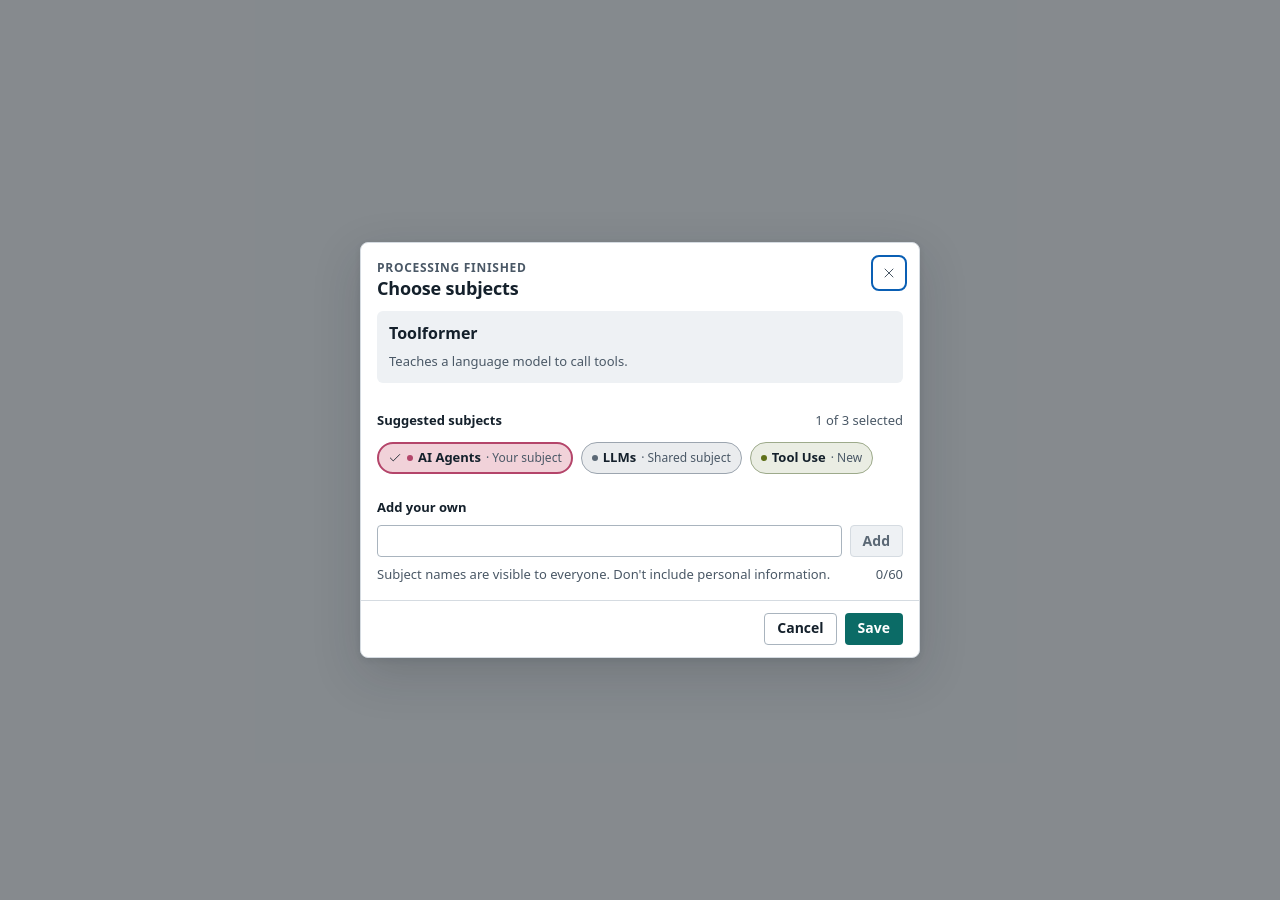
Test case: SubjectPicker › keeps the picker open with the selection when saving fails
Click the button "LLMs · Shared subject" at {"x": 661, "y": 458}, box [581,442,742,474]
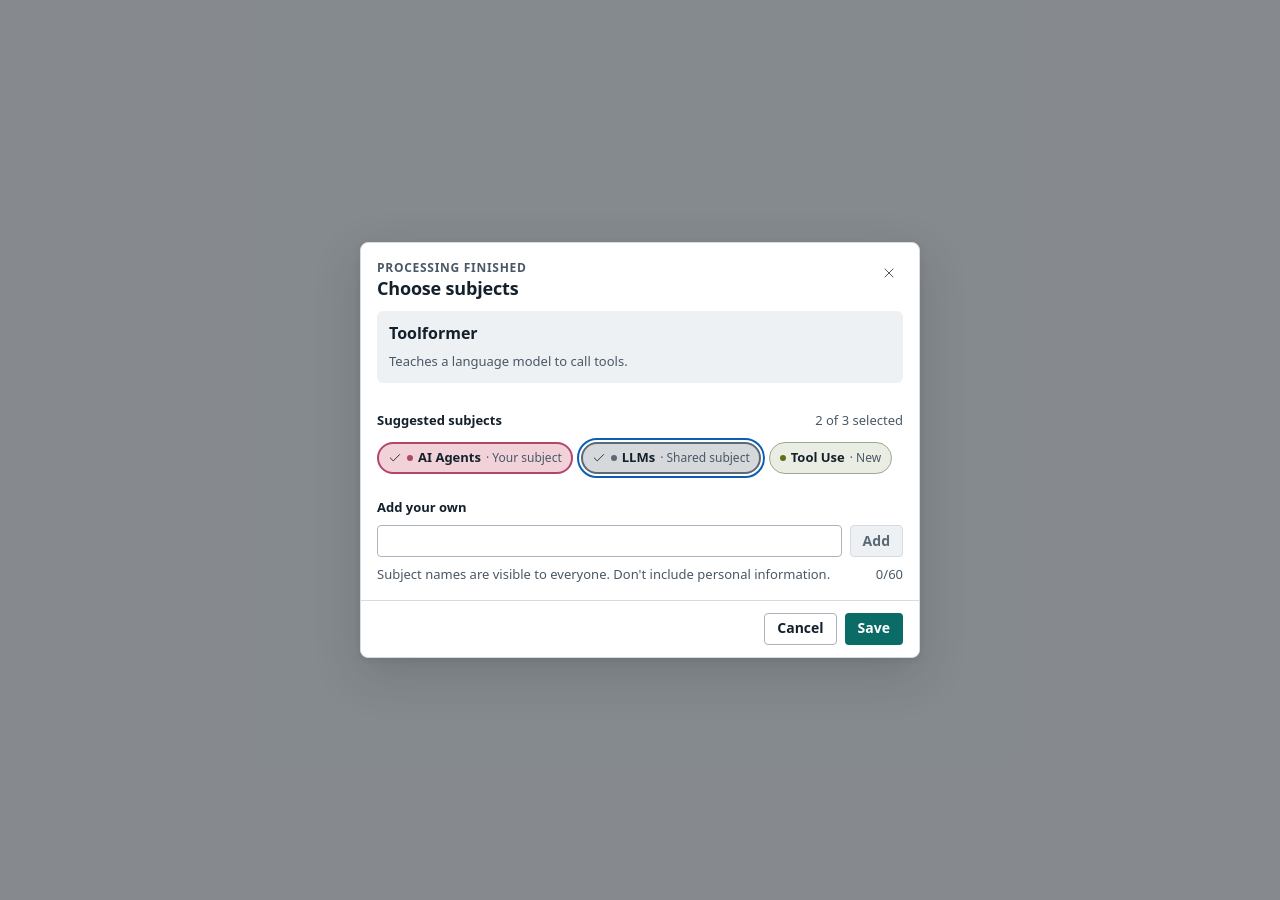
Click the button "Save" at {"x": 874, "y": 629}, box [845,613,903,645]
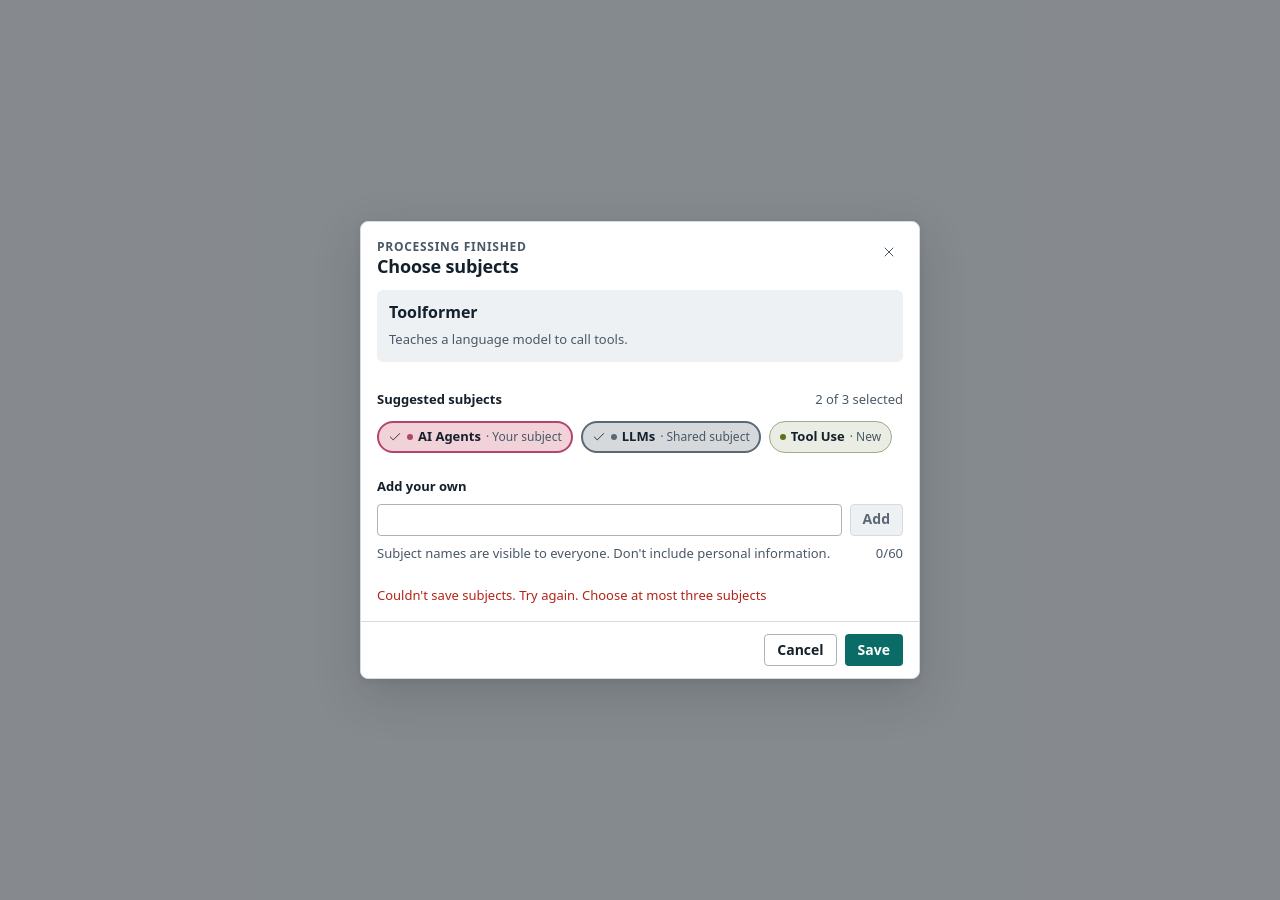
Check: the button "Save" is enabled, box [845,634,903,666]
Check: the text "Couldn't save subjects. Try again. Choose at most three subjects" is shown, box [377,586,767,604]
